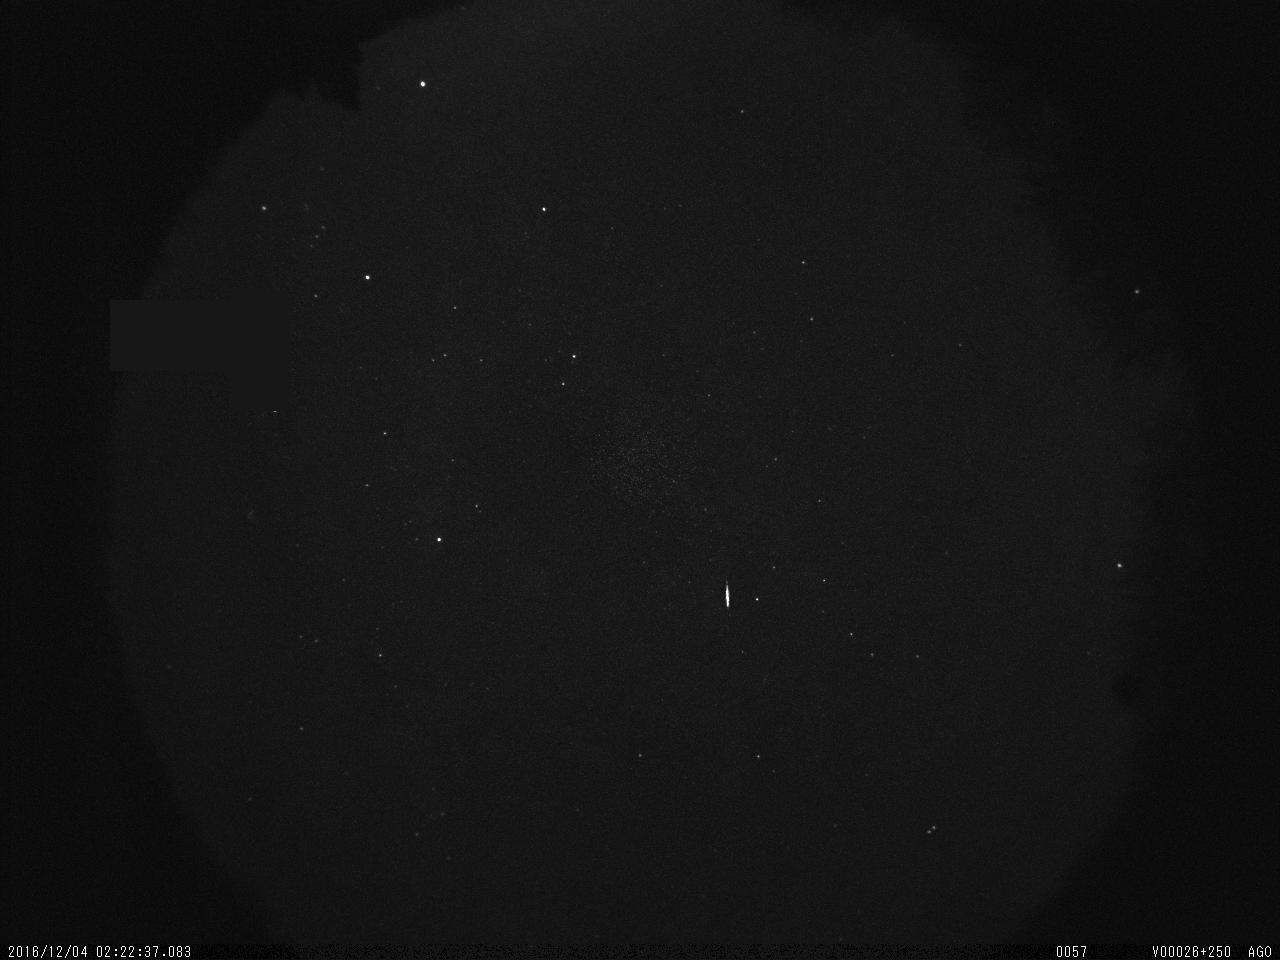Meteor: (722, 577, 732, 608)
